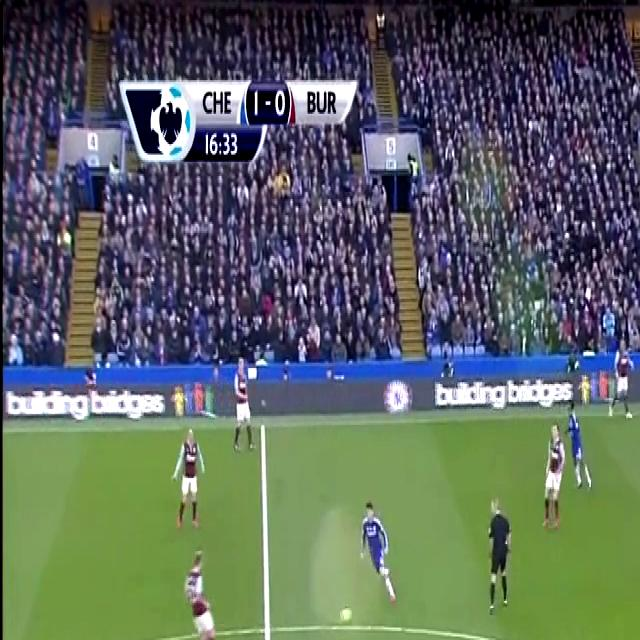ball: (336, 597, 354, 636)
referee: (480, 488, 520, 626)
soccer-player: (168, 419, 210, 539), (357, 496, 401, 610), (558, 385, 599, 500), (178, 547, 224, 640), (536, 405, 568, 537), (228, 348, 259, 460), (604, 334, 639, 423)
